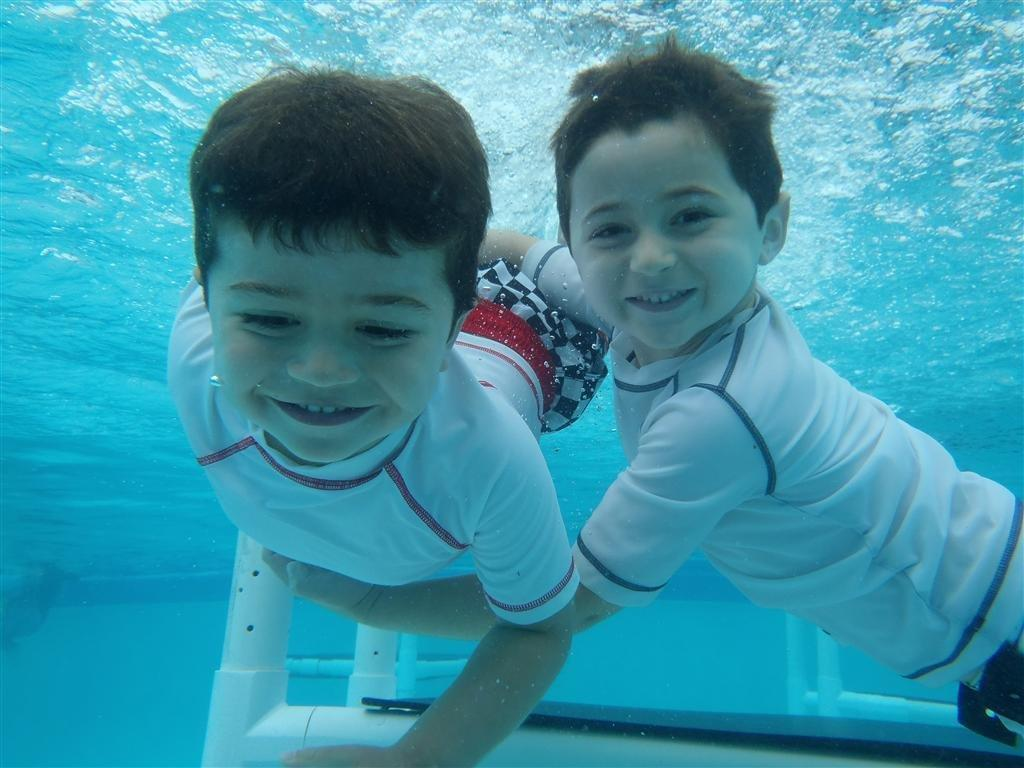face: (214, 222, 446, 466), (580, 140, 754, 340)
